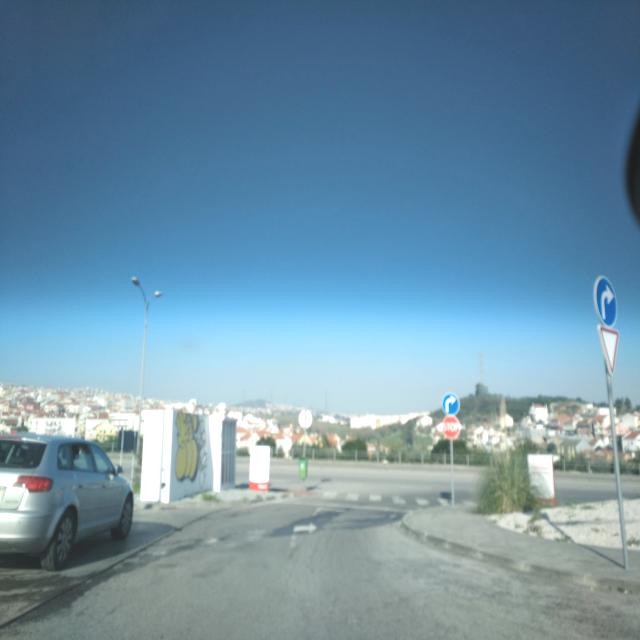car: (0, 431, 135, 570)
